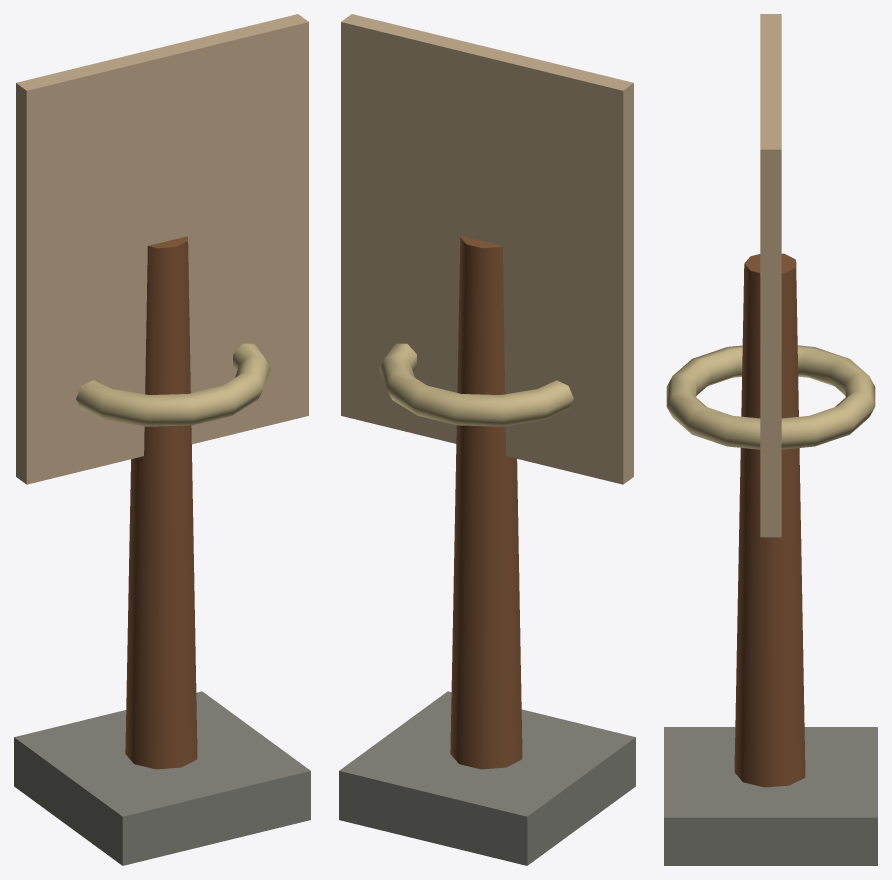
The model's file is banner_post.glb.
3 renders of one model, left to right at view 1: azimuth 30°, elevation 25°; view 2: azimuth 150°, elevation 25°; view 3: azimuth 270°, elevation 25°, orthographic.
Parts seen in each view (by area): view 1: head, base, post, detail_ring; view 2: head, base, post, detail_ring; view 3: post, base, head, detail_ring.
Boxes of the visible parts, box(x1,y1,x2,y2) form: head: box(16, 14, 308, 484); base: box(14, 691, 310, 865); post: box(125, 236, 197, 769); detail_ring: box(76, 343, 270, 426); head: box(341, 14, 633, 484); base: box(339, 691, 635, 865); post: box(450, 236, 522, 769); detail_ring: box(379, 343, 573, 426); post: box(734, 253, 805, 787); base: box(664, 727, 877, 865); head: box(760, 14, 781, 537); detail_ring: box(666, 345, 875, 449).
Size of what is drawn, in the model's own units: 1.2 by 3.05 by 0.8.
